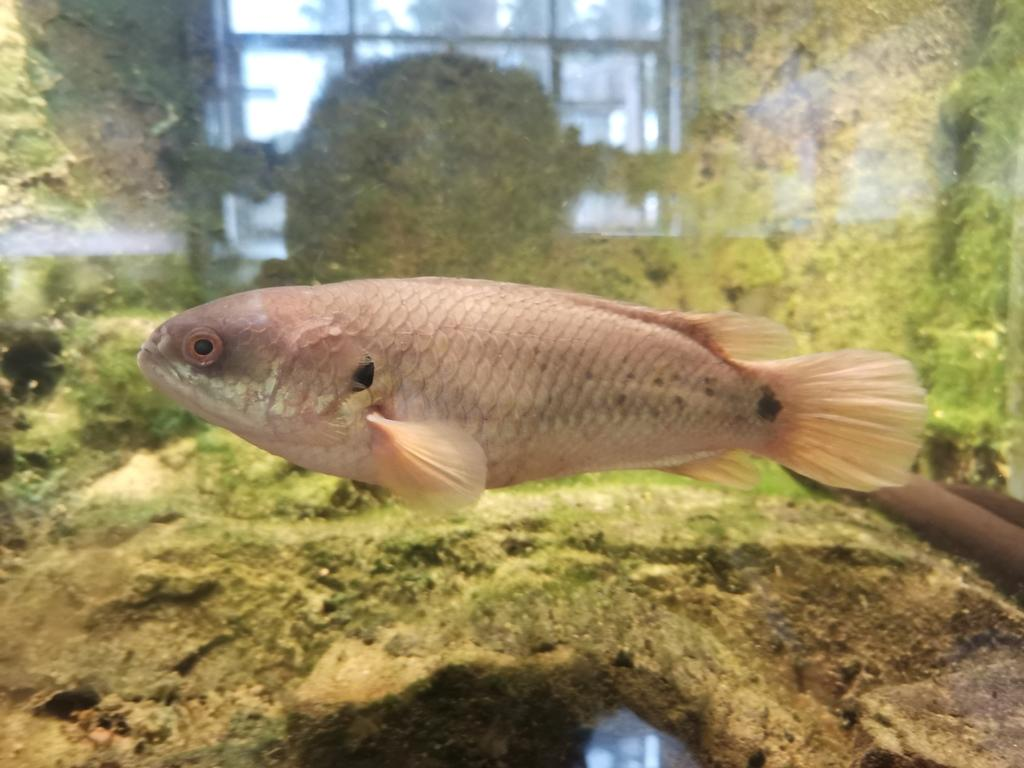Climbing Perch: (147, 272, 934, 524)
